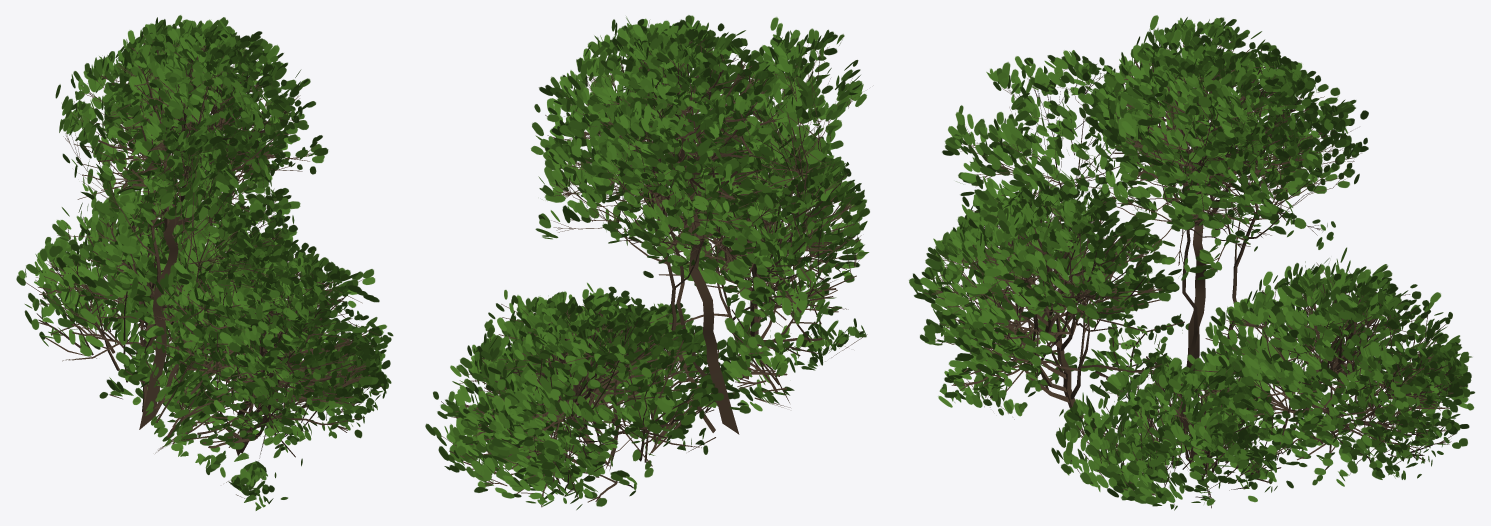
3 renders of one model, left to right at view 1: azimuth 30°, elevation 25°; view 2: azimuth 150°, elevation 25°; view 3: azimuth 270°, elevation 25°, orthographic. The views are drawn at different scales.
Visible parts, largest first — view 1: oak 01.001_trunk_Mat.001_0.287; view 2: oak 01.001_trunk_Mat.001_0.287; view 3: oak 01.001_trunk_Mat.001_0.287.
Boxes of the visible parts, x1,y1,x2,y2 form: oak 01.001_trunk_Mat.001_0.287: (16, 15, 393, 510); oak 01.001_trunk_Mat.001_0.287: (425, 15, 869, 510); oak 01.001_trunk_Mat.001_0.287: (909, 15, 1474, 510).
Size of the model in its own units: 2.57 by 3.66 by 4.54.
Materials: 2 (1 with a texture image).
